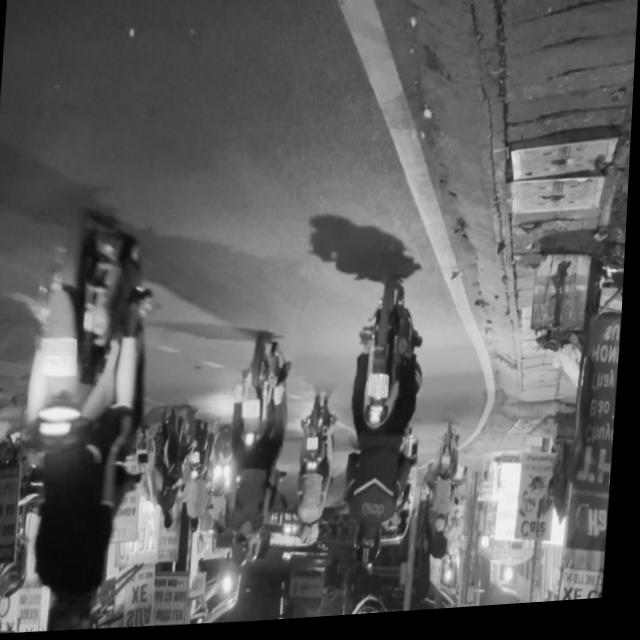helmet: (65, 594, 106, 632), (358, 527, 387, 573), (232, 535, 254, 571), (49, 600, 73, 632)
licenseplate: (6, 196, 163, 635), (339, 287, 431, 577), (222, 337, 297, 577)
nohelmet: (39, 338, 79, 380), (369, 378, 392, 405), (244, 403, 262, 423)
